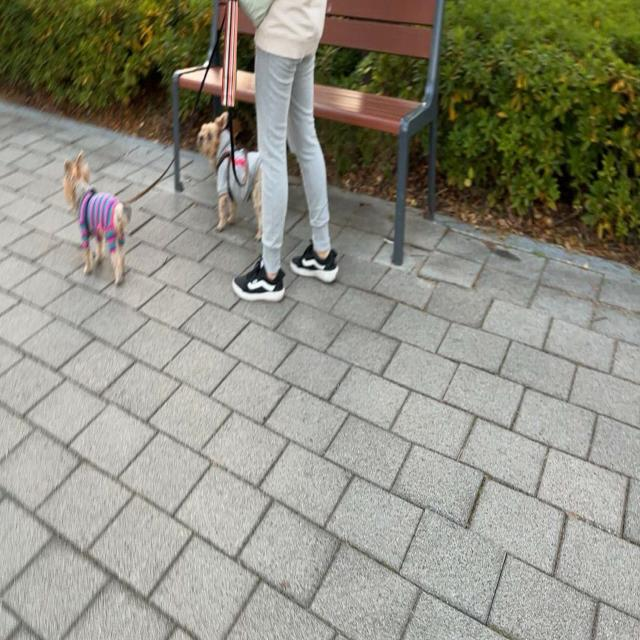Leashed_Dog: (63, 2, 292, 304), (195, 0, 291, 242)
